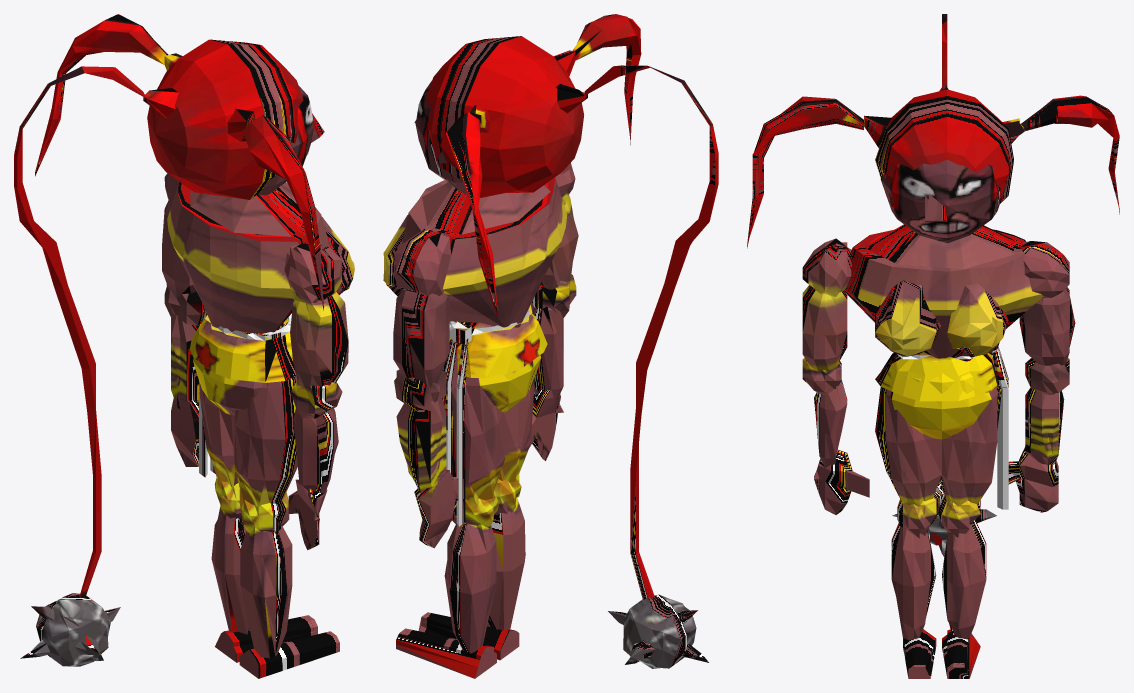
File: FCap.glb
3 renders of one model, left to right at view 1: azimuth 30°, elevation 25°; view 2: azimuth 150°, elevation 25°; view 3: azimuth 270°, elevation 25°, orthographic. The views are drawn at different scales.
Visible parts, largest first — view 1: FCap; view 2: FCap; view 3: FCap.
Boxes of the visible parts, x1,y1,x2,y2 form: FCap: (14,14,354,678); FCap: (383,14,718,678); FCap: (747,14,1119,678).
Size of the model in its own units: 78.28 by 150 by 90.36.
1 material, 1 textured.
